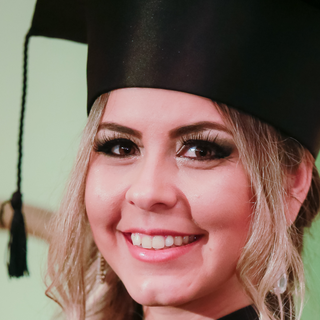eye: (169, 134, 233, 168), (88, 133, 147, 162)
